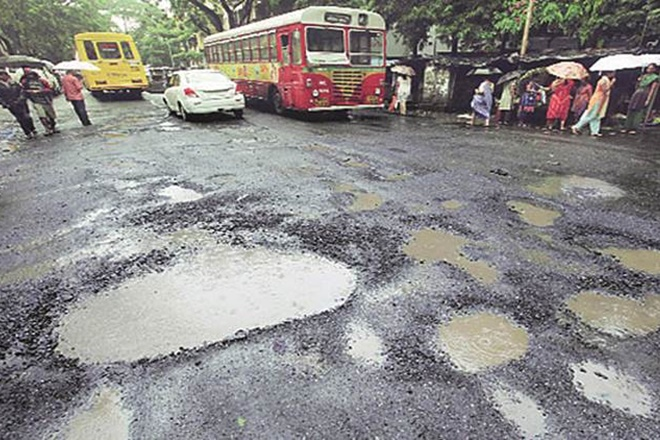pothole: (51, 204, 345, 375), (513, 187, 659, 368), (513, 187, 619, 368), (409, 289, 538, 390), (382, 200, 503, 294), (506, 148, 598, 230)
